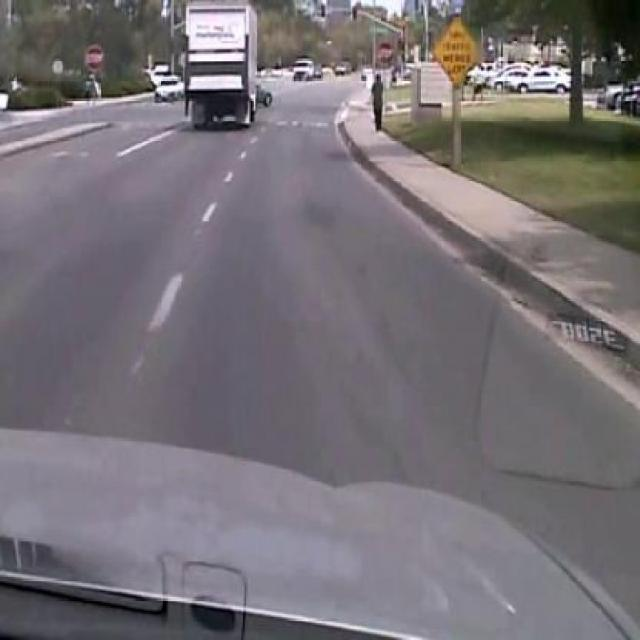Stop: (374, 39, 394, 67)
